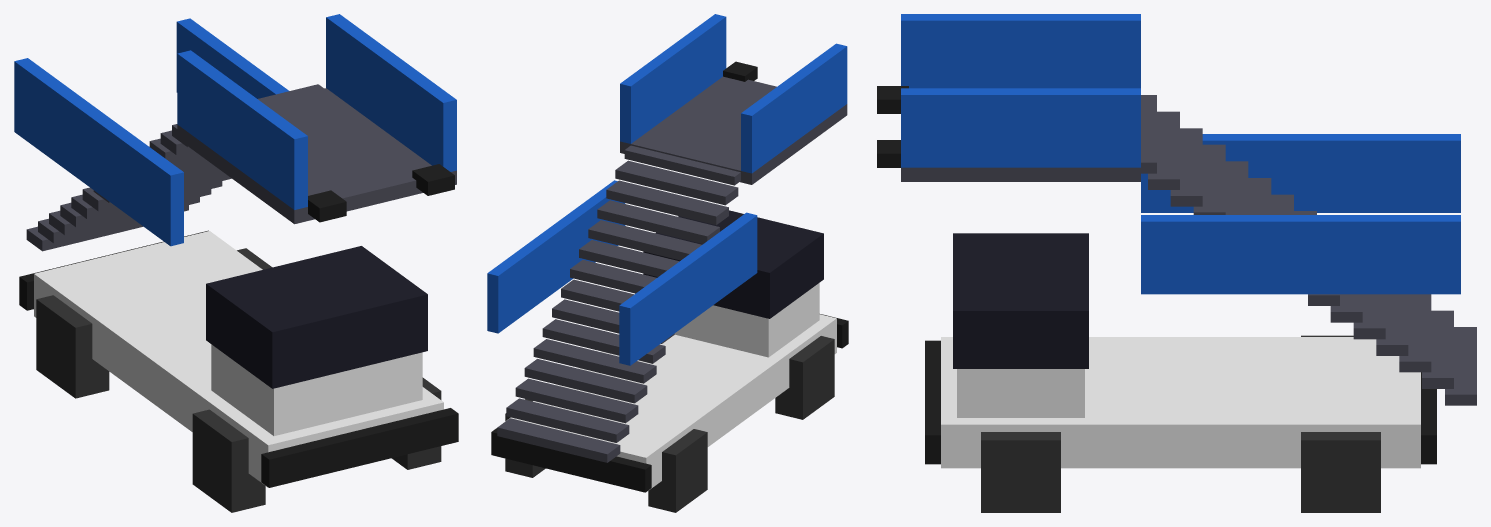
Rendered from boarding_stairs.obj.
3 renders of one model, left to right at view 1: azimuth 30°, elevation 25°; view 2: azimuth 150°, elevation 25°; view 3: azimuth 270°, elevation 25°, orthographic. The views are drawn at different scales.
Size of the model in its own units: 3.1 by 5.6 by 7.5.
